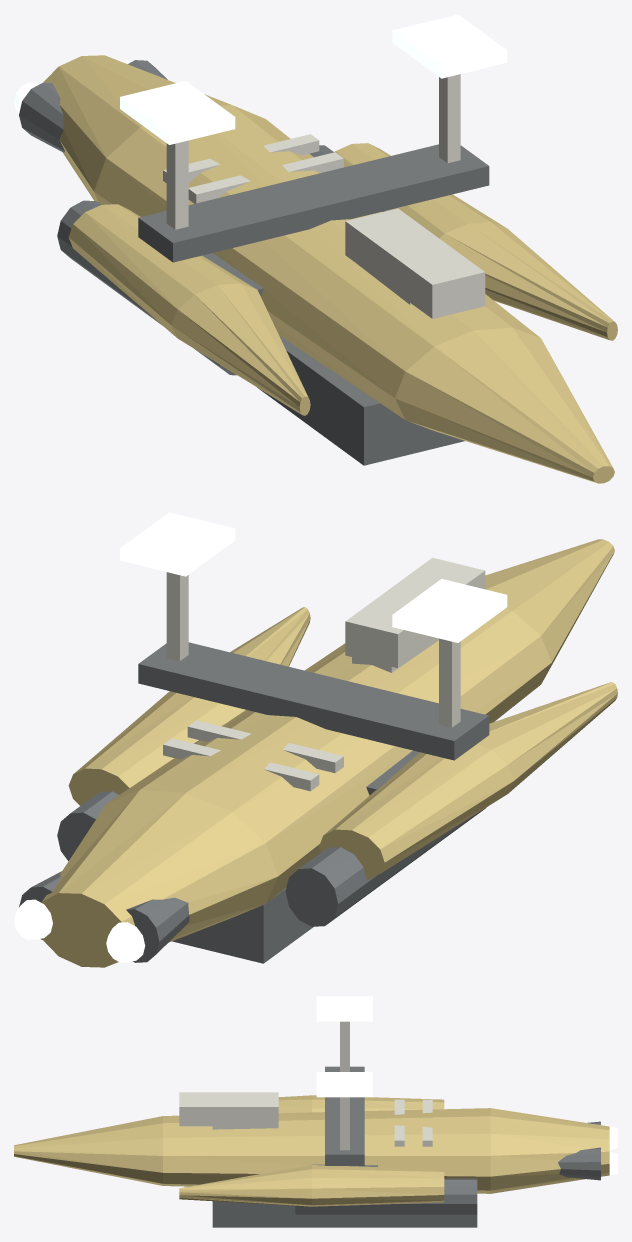
3 renders of one model, top to bottom at view 1: azimuth 30°, elevation 25°; view 2: azimuth 150°, elevation 25°; view 3: azimuth 270°, elevation 25°, orthographic. The views are drawn at different scales.
Size of the model in its own units: 2.59 by 2.1 by 6.94.
